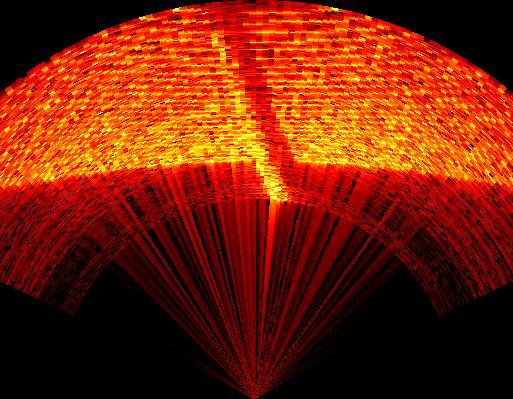pipe: (198, 0, 301, 204)
